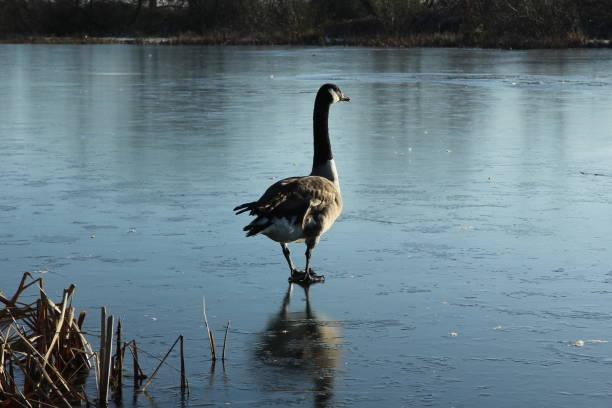Canadian-Goose: (234, 80, 355, 276)
